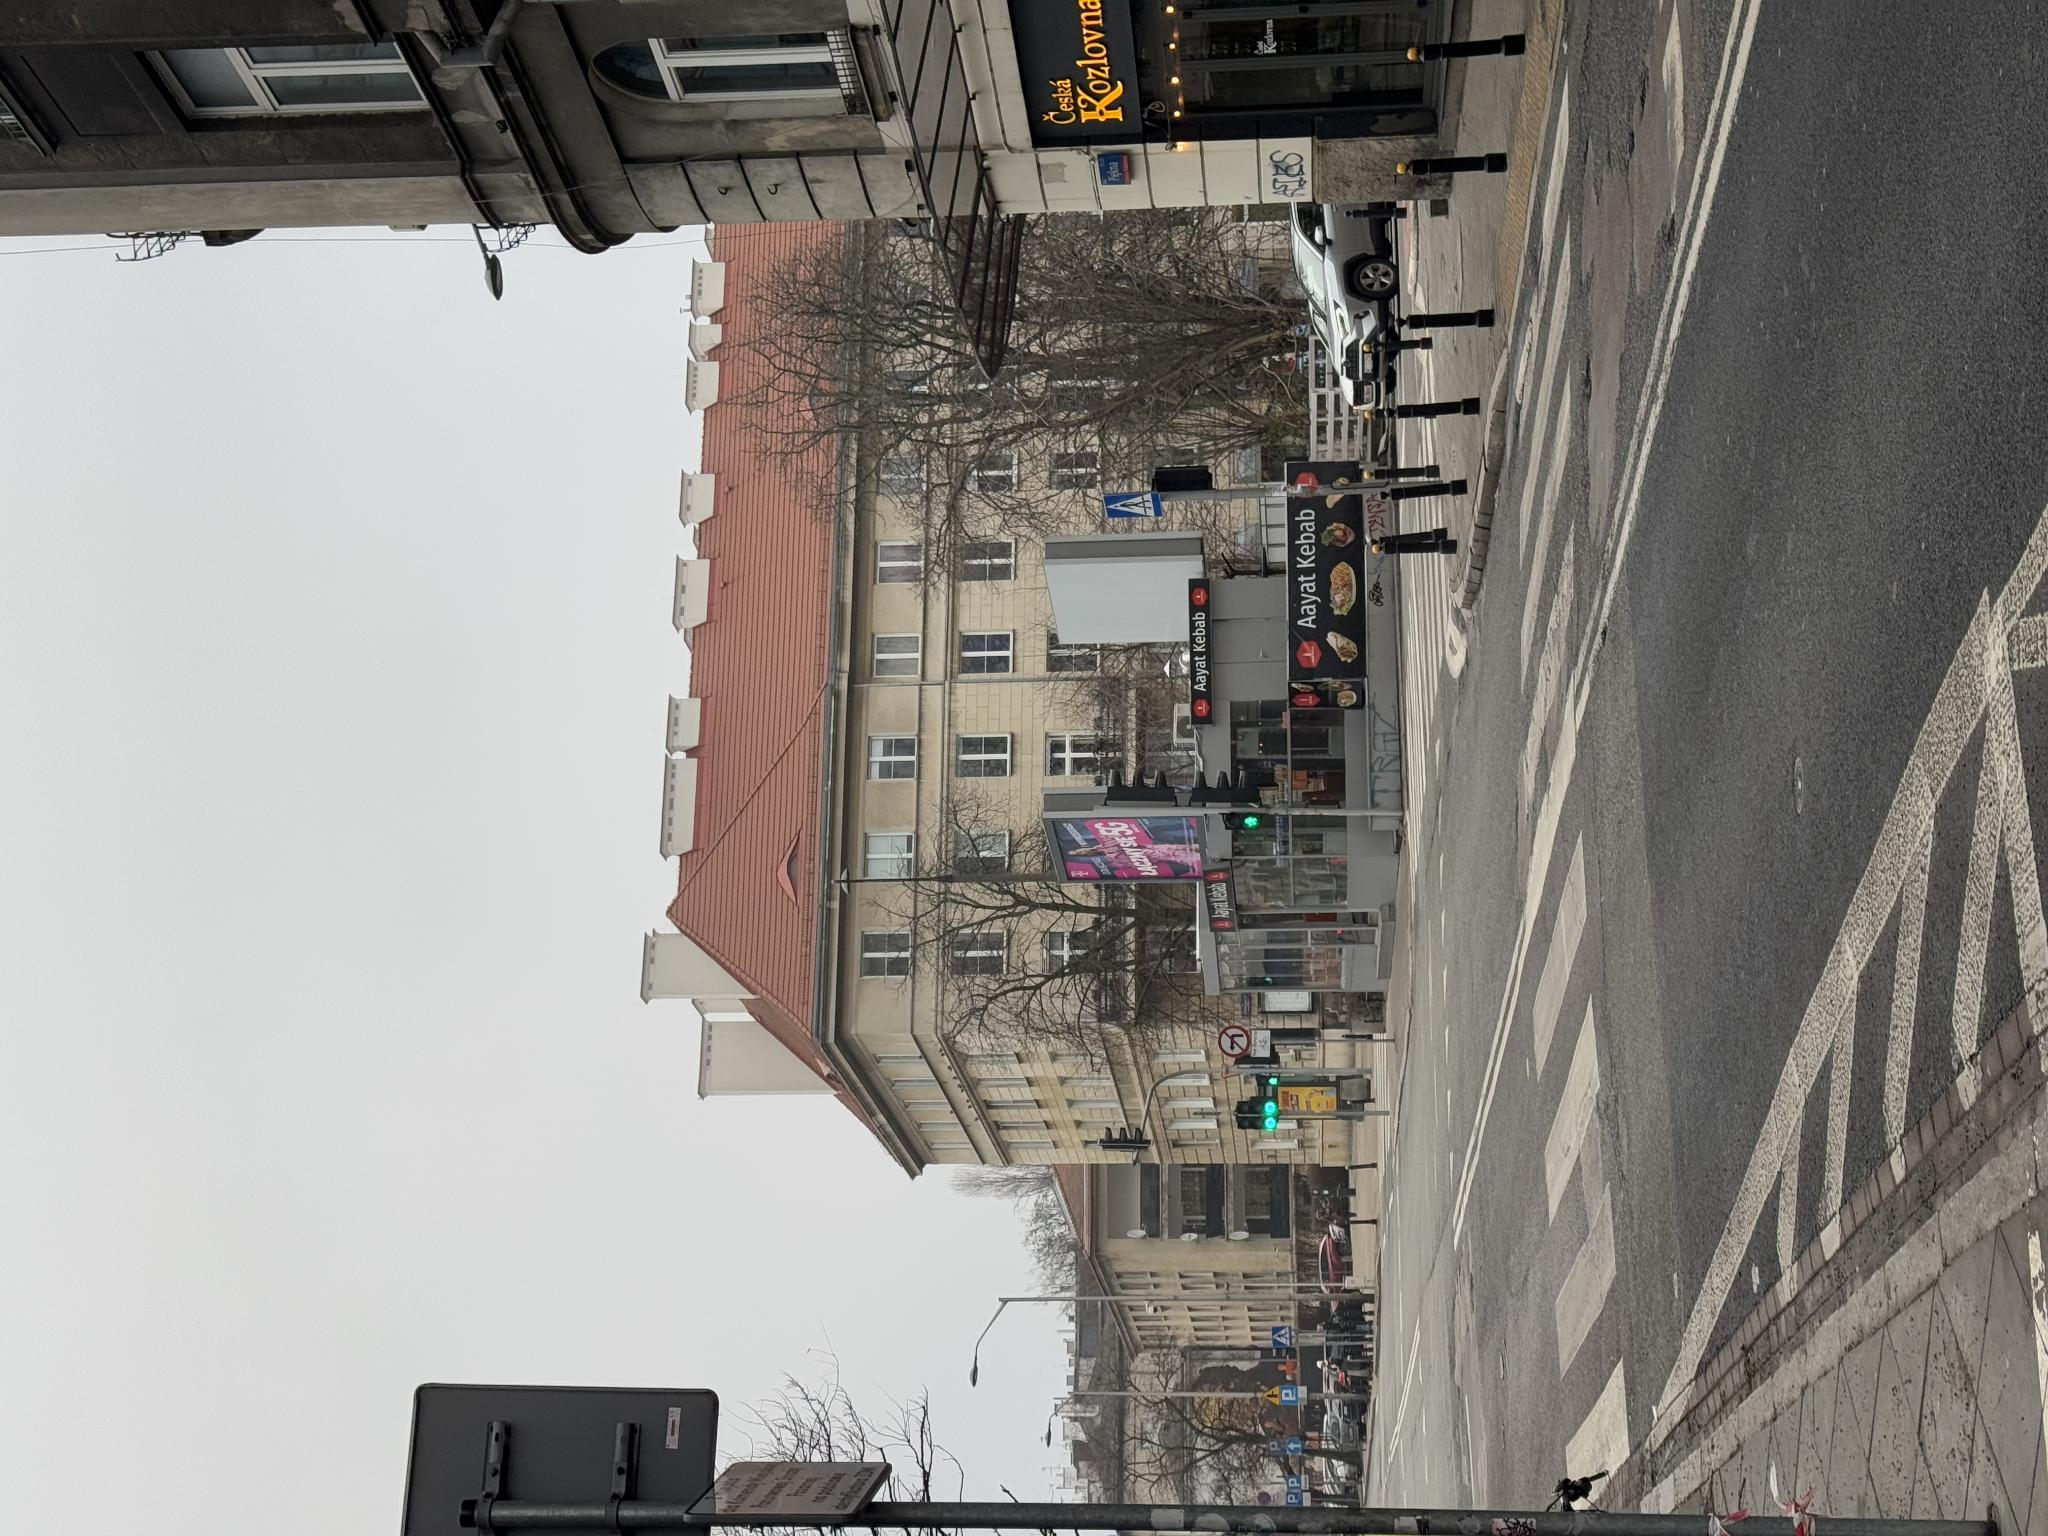information: (1018, 1104, 1047, 1165), (189, 1271, 210, 1292), (132, 1281, 150, 1297), (31, 1286, 44, 1302), (47, 1288, 61, 1300)
mandatory: (82, 1286, 98, 1302)
other: (479, 1252, 506, 1271), (131, 1297, 148, 1309)
prohibitory: (479, 1218, 511, 1250), (31, 1257, 45, 1270)
warning: (129, 1262, 150, 1279)
